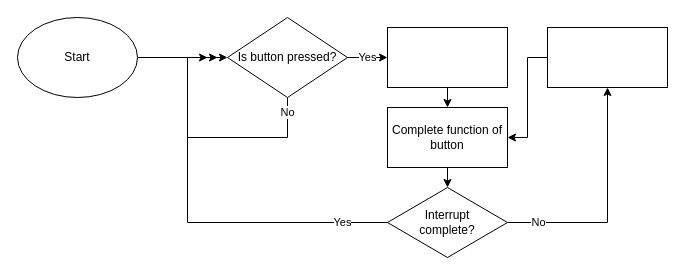
This 685x275 diagram has some shape labels left out. The shapes that lost their labels are listed below. From the top down, each one's box as (x1, y1, x2, y2) in pixels, then its label:
(386, 26, 508, 88): Get function of button
(546, 26, 668, 88): Find remaining tasks
